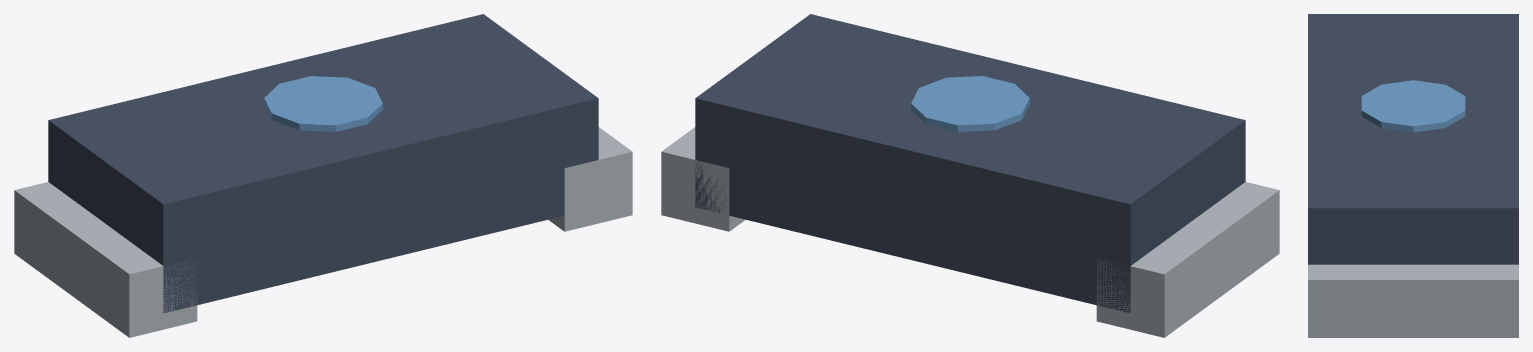
3 views of the same model, side by side, from view 1: azimuth 30°, elevation 25°; view 2: azimuth 150°, elevation 25°; view 3: azimuth 270°, elevation 25° (orthographic). The views are drawn at different scales.
Visible parts, largest first — view 1: part0000__PSMAT__IC_Epoxy, part0001__PSMAT__Tin_Solder, part0003__PSMAT__Telemetry_Blue, part0002__PSMAT__Tin_Solder; view 2: part0000__PSMAT__IC_Epoxy, part0001__PSMAT__Tin_Solder, part0003__PSMAT__Telemetry_Blue, part0002__PSMAT__Tin_Solder; view 3: part0000__PSMAT__IC_Epoxy, part0002__PSMAT__Tin_Solder, part0003__PSMAT__Telemetry_Blue.
Boxes of the visible parts, x1,y1,x2,y2 form: part0000__PSMAT__IC_Epoxy: [48, 14, 598, 313]; part0001__PSMAT__Tin_Solder: [14, 182, 197, 337]; part0003__PSMAT__Telemetry_Blue: [264, 76, 382, 131]; part0002__PSMAT__Tin_Solder: [548, 127, 632, 231]; part0000__PSMAT__IC_Epoxy: [695, 14, 1245, 313]; part0001__PSMAT__Tin_Solder: [1096, 182, 1279, 337]; part0003__PSMAT__Telemetry_Blue: [911, 76, 1029, 131]; part0002__PSMAT__Tin_Solder: [661, 127, 745, 231]; part0000__PSMAT__IC_Epoxy: [1308, 14, 1518, 264]; part0002__PSMAT__Tin_Solder: [1308, 264, 1518, 337]; part0003__PSMAT__Telemetry_Blue: [1361, 80, 1465, 132].
Bounding box in the file's own units: 0.00555 × 0.00141 × 0.0022.
